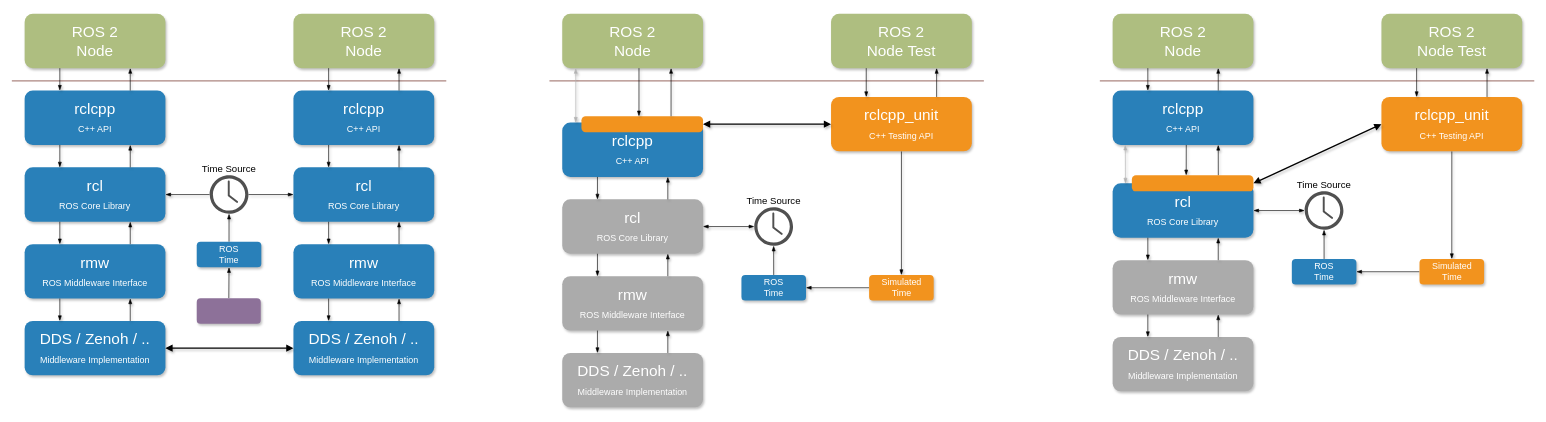
Some shapes in this 1546 by 422 pixel diagram are drawn without their labels. The centre of each missing label's shape, as x and y in pixels:
"rcl_interposer" goes at (x=1192, y=183).
"rclcpp_unit" goes at (x=642, y=124).
"System Time" goes at (x=229, y=311).
